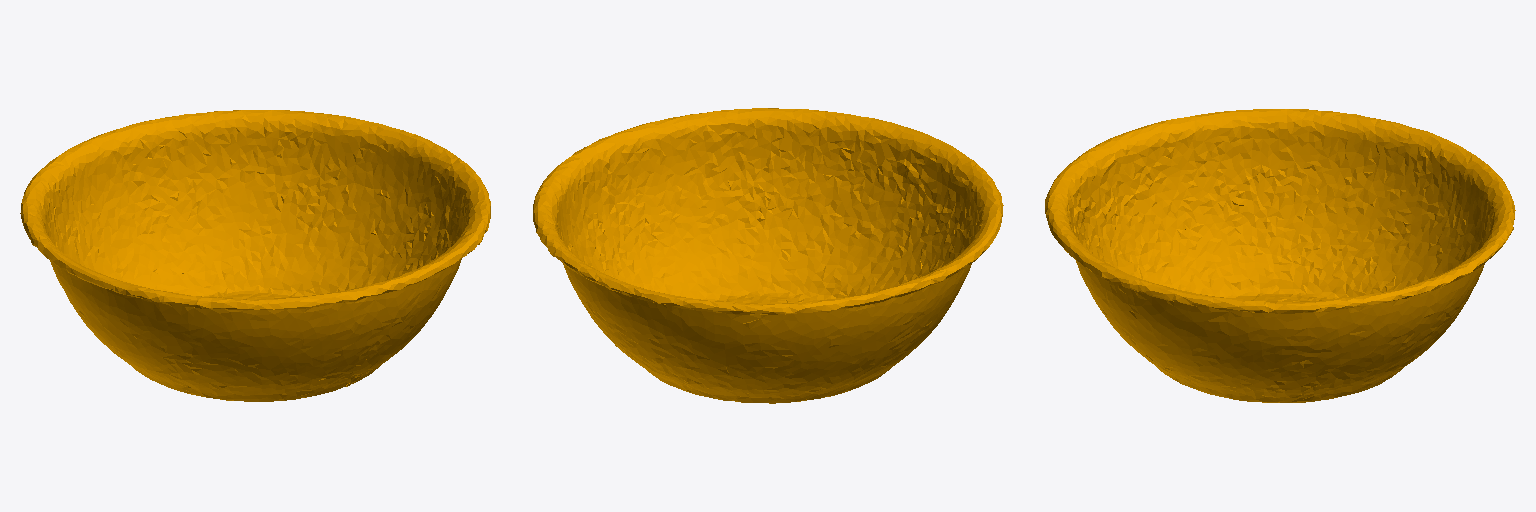
URDF robot description (root):
<robot name="root">
  <link name="link_original">
    <visual>
      <origin xyz="0 0 0" rpy="0 0 0"/>
      <geometry>
        <mesh filename="textured.obj" scale="1.0000E+00 1.0000E+00 1.0000E+00"/>
      </geometry>
    </visual>
    <inertial>
      <origin xyz="0 0 0" rpy="0 0 0"/>
      <mass value="3.3358E-02"/>
      <inertia ixx="7.85E-05" ixy="1.25E-06" ixz="-1.13E-09" iyy="7.69E-05" iyz="1.17E-06" izz="1.31E-04"/>
    </inertial>
    <collision>
      <origin xyz="0 0 0" rpy="0 0 0"/>
      <geometry>
        <mesh filename="coacd_allinone.obj" scale="1.0000E+00 1.0000E+00 1.0000E+00"/>
      </geometry>
    </collision>
  </link>
</robot>

--- Render facts (derived) ---
Views: 3 orthographic renders of the robot side by side, from view 1: azimuth 30°, elevation 25°; view 2: azimuth 150°, elevation 25°; view 3: azimuth 270°, elevation 25°.
Model root with 1 links and 0 joints (none), rooted at link_original, posed all joints at 0.
Links seen in each view (by area): view 1: link_original; view 2: link_original; view 3: link_original.
Link boxes in pixels (x1,y1,x2,y2): link_original: (20, 110, 490, 401); link_original: (533, 108, 1003, 403); link_original: (1045, 109, 1515, 402).
Bounding box of the posed robot: 0.1615 × 0.1612 × 0.055 m (x, y, z).
1 mesh visuals loaded from 1 distinct referenced files (1 OBJ).
